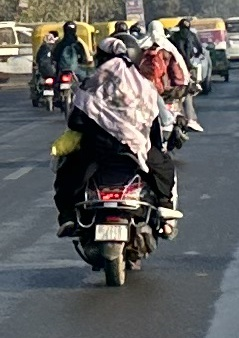BikeWithRider: (45, 32, 177, 291), (124, 17, 207, 160), (49, 17, 86, 125)
Helmet: (104, 32, 146, 76)
NoHelmet: (89, 35, 132, 81)
